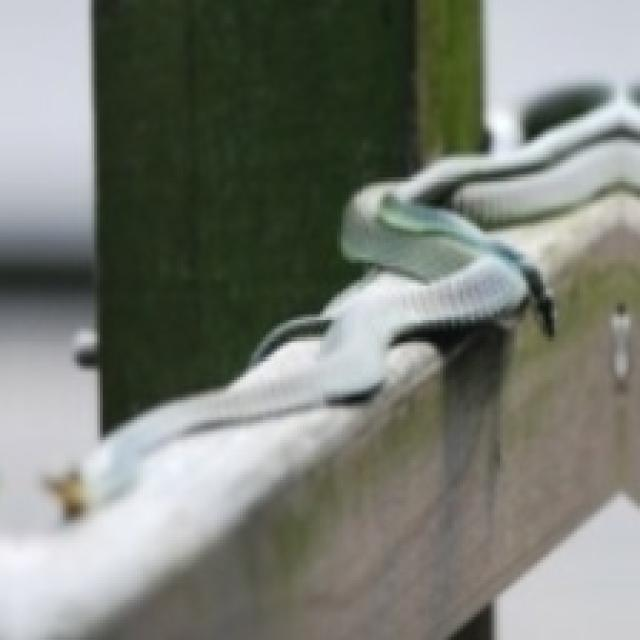paradise tree snake: (6, 94, 637, 637)
